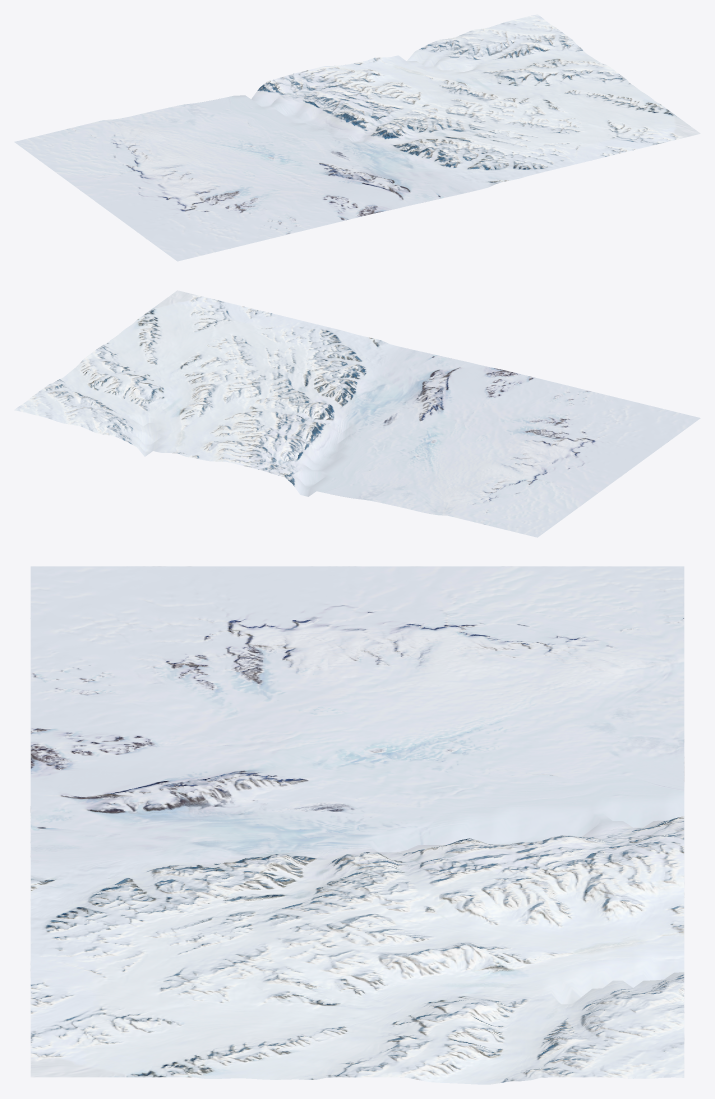
File: rennick_glacier.glb
3 renders of one model, top to bottom at view 1: azimuth 30°, elevation 25°; view 2: azimuth 150°, elevation 25°; view 3: azimuth 270°, elevation 25°, orthographic. The views are drawn at different scales.
Parts seen in each view (by area): view 1: EXPORT_ESRI_AERIAL_WM_0; view 2: EXPORT_ESRI_AERIAL_WM_0; view 3: EXPORT_ESRI_AERIAL_WM_0.
Part boxes in pixels (x1,y1,x2,y2): EXPORT_ESRI_AERIAL_WM_0: (14,14,700,261); EXPORT_ESRI_AERIAL_WM_0: (14,290,700,537); EXPORT_ESRI_AERIAL_WM_0: (30,566,684,1084).
Size of the model in its own units: 724012 by 20000 by 391358.
1 material, 1 textured.
